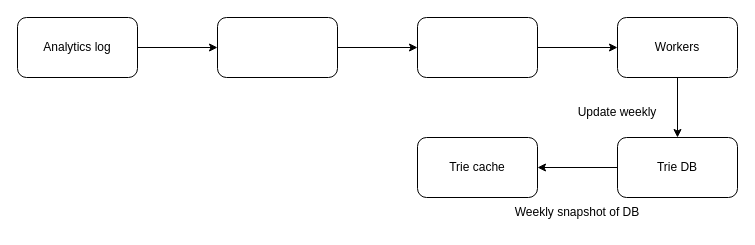
The diagram is 755 pixels wide and 245 high, and some of its shapes have lost their labels. Here are the shapes that lost their labels. From the top down, the box of each, then its label:
(216, 16, 338, 78): Aggregators
(416, 16, 538, 78): Aggregated data
